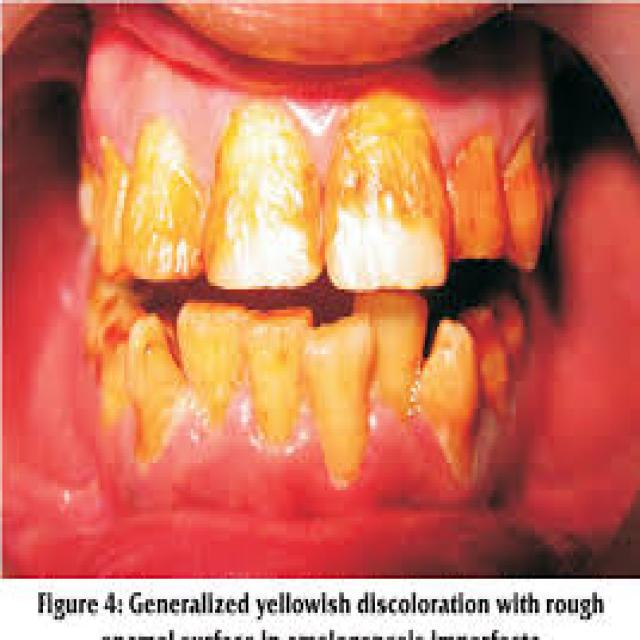Tooth Discoloration: (84, 284, 542, 496), (209, 92, 546, 279), (87, 124, 207, 281)
